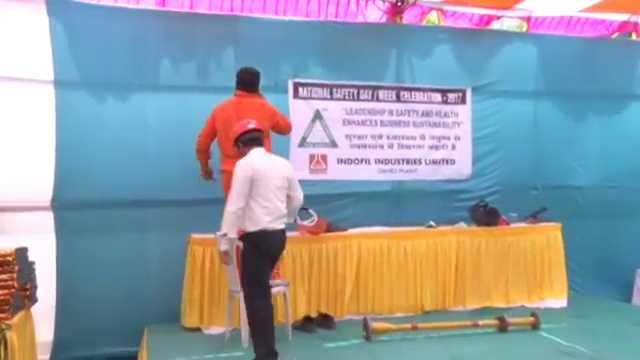helmet: (232, 117, 266, 143)
helmet_off: (233, 64, 262, 98)
helmet_on: (231, 115, 268, 159)
person: (219, 116, 305, 360), (197, 65, 295, 198)
